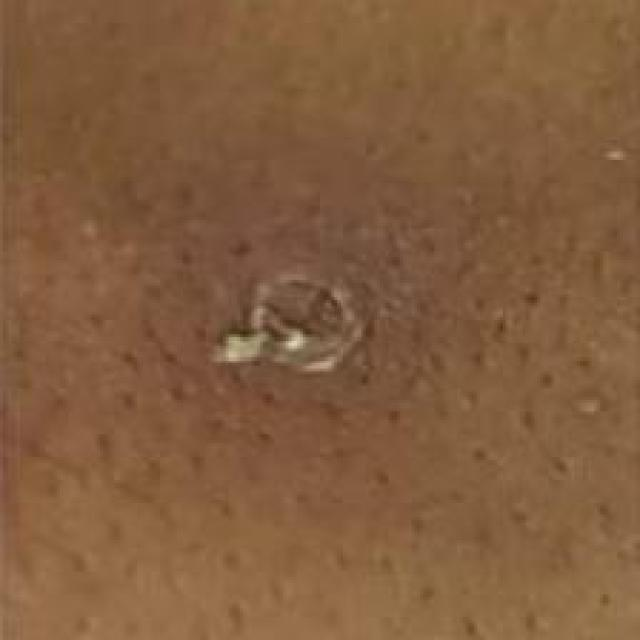monkeypox: (126, 193, 475, 479)
